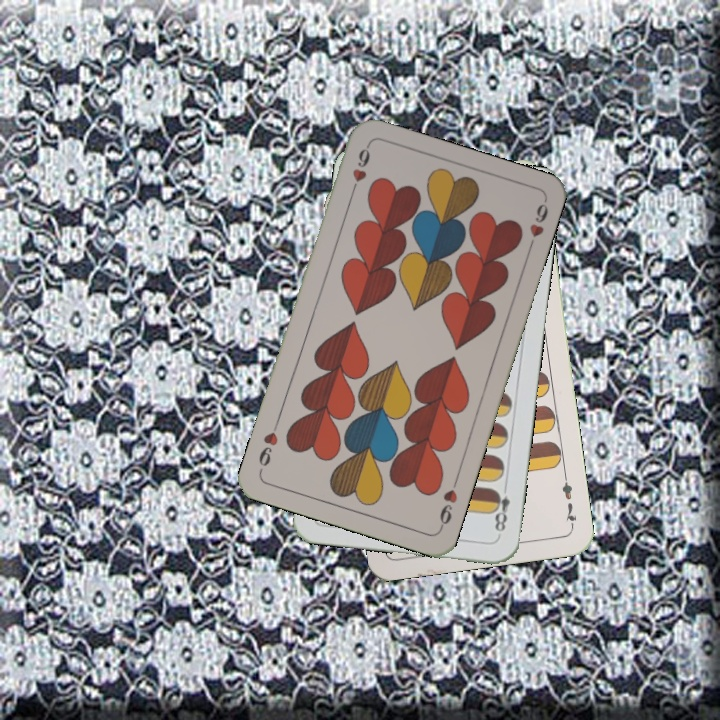E7: (558, 471, 579, 530)
E8: (488, 480, 512, 539)
H9: (346, 142, 373, 199), (435, 474, 461, 532)
